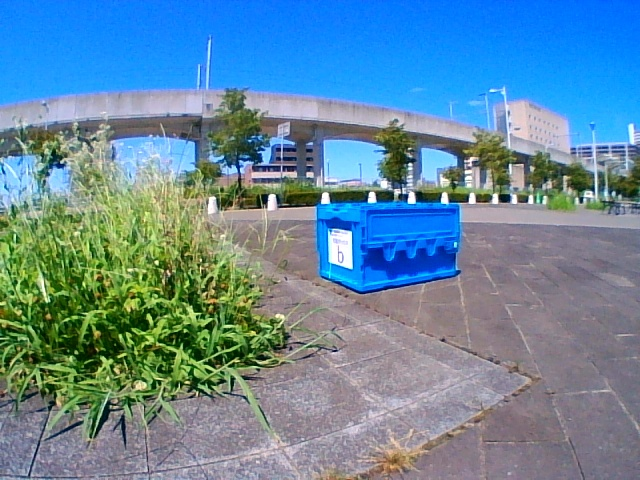blue_box: (320, 205, 458, 276)
tag_b: (333, 235, 349, 264)
